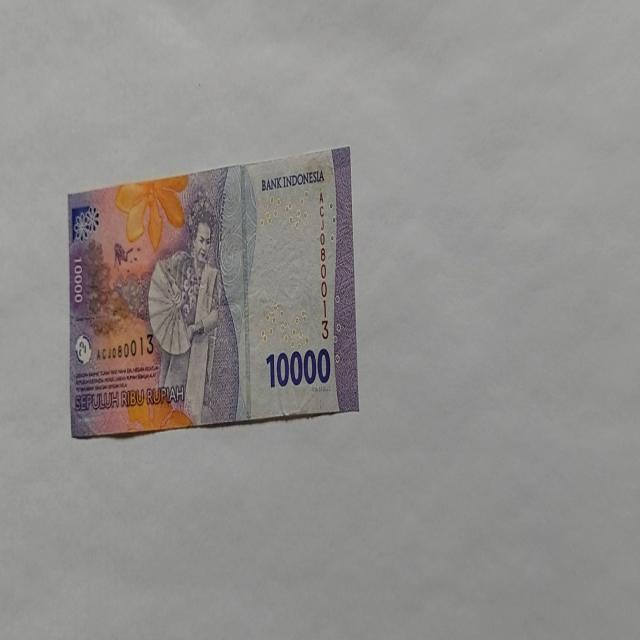sepuluh ribu rupiah: (67, 144, 359, 439), (264, 346, 332, 390)
